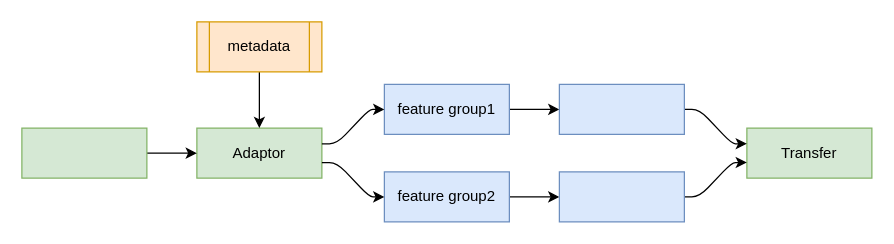
This 894x244 diagram has some shape labels left out. Here are the shapes that lost their labels. From the top down, the box of each, then its label:
(558, 83, 684, 134): Fetcher1
(21, 127, 147, 178): request
(558, 171, 684, 222): Fetcher2
